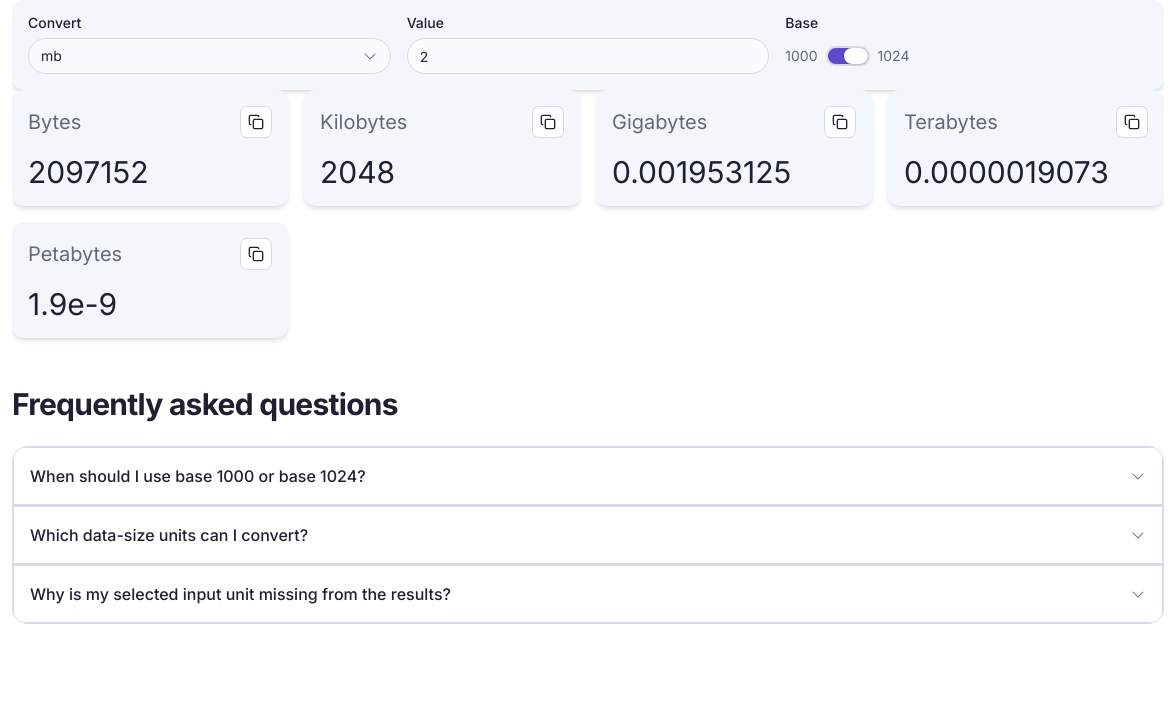
<DataSizeConverter /> › recalculates using the decimal base when the base switch is turned off
The image size is (1176, 720).
What coordinates should you click on to do the following:
click the switch with test id "data-size-converter-base-switch"
I would click on:
 (848, 56)
Its box is [826, 46, 870, 66].
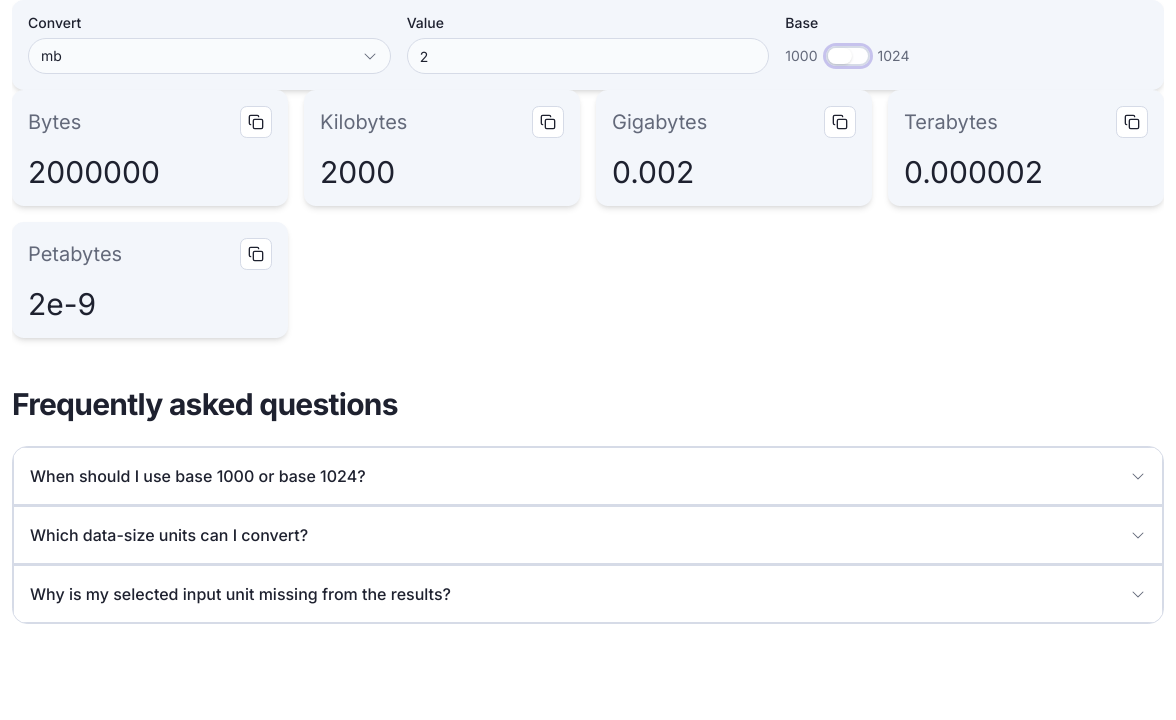
Expected: the text with test id "data-size-converter-output-kb" reads "2000", [320, 154, 395, 190]
